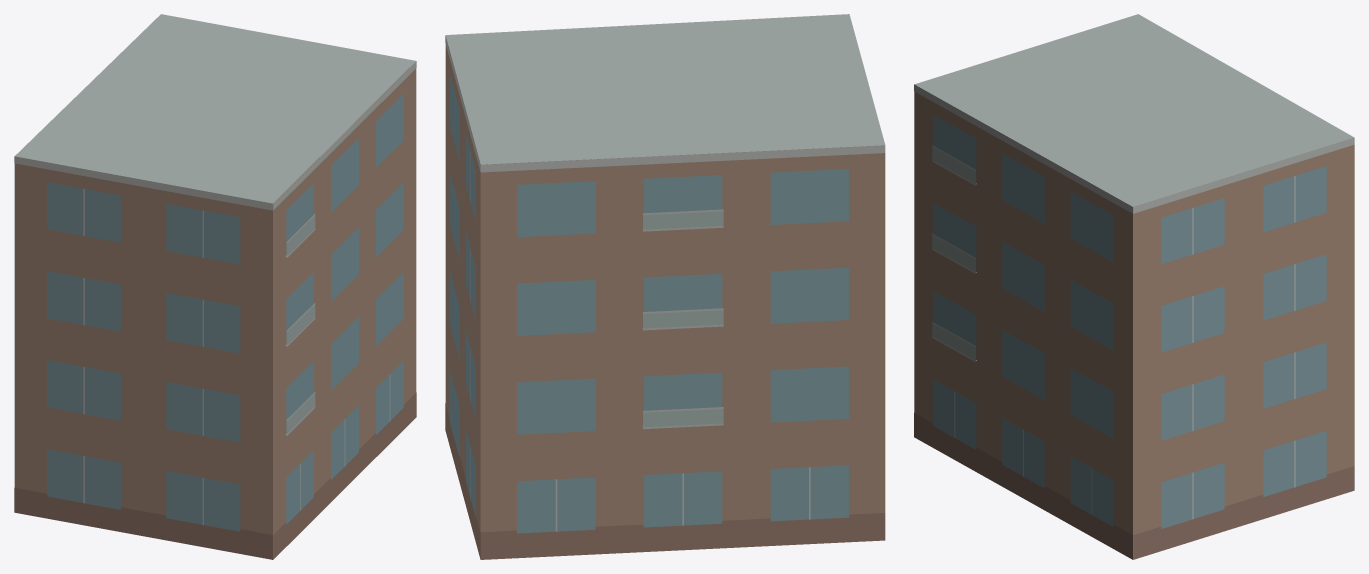
Rendered from survey-upis-32665191.glb.
The picture shows the model from 3 angles, left to right: view 1: azimuth 30°, elevation 25°; view 2: azimuth 150°, elevation 25°; view 3: azimuth 270°, elevation 25°; orthographic projection. The views are drawn at different scales.
Parts seen in each view (by area): view 1: survey-upis-32665191.tmp; view 2: survey-upis-32665191.tmp; view 3: survey-upis-32665191.tmp.
Boxes of the visible parts, x1,y1,x2,y2 form: survey-upis-32665191.tmp: [14, 14, 416, 559]; survey-upis-32665191.tmp: [445, 14, 885, 559]; survey-upis-32665191.tmp: [914, 14, 1354, 559].
Bounding box in the file's own units: 14.55 × 12.4 × 14.03.
